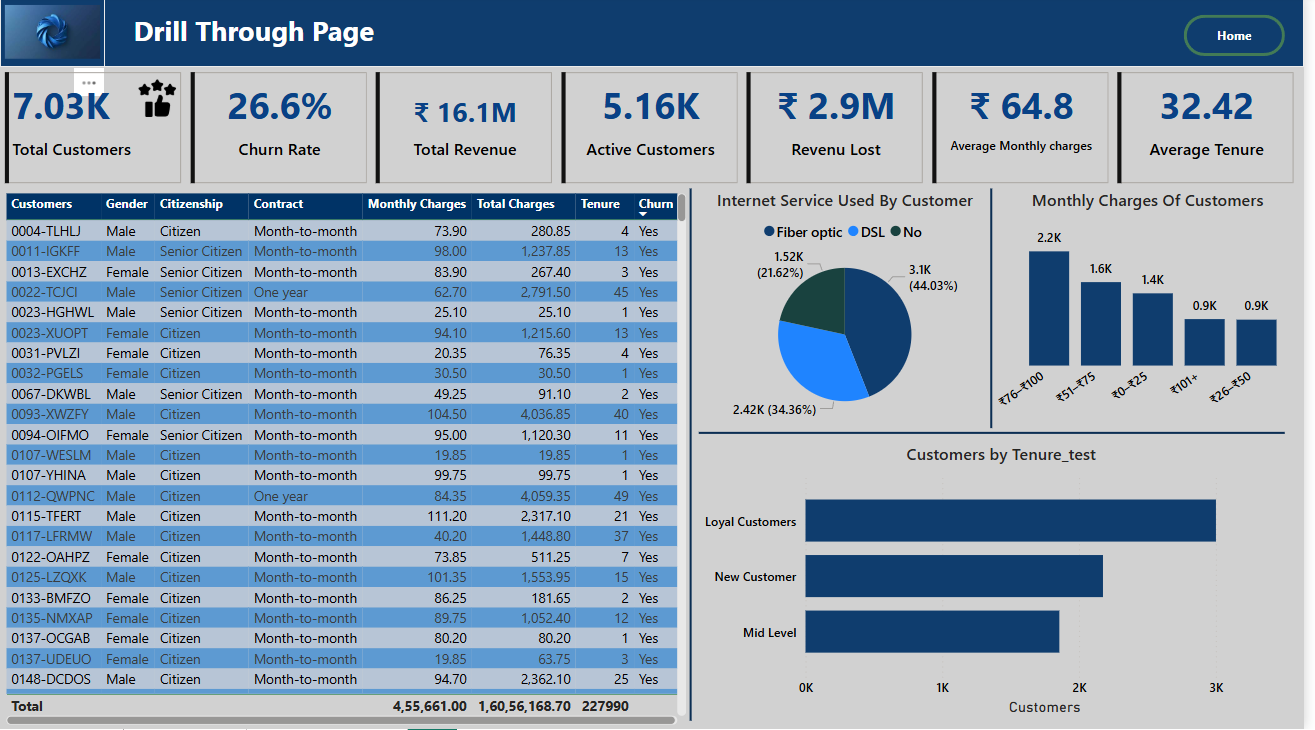

What the dashboard file says about the page in this screenshot:
{"tool":"powerbi","page":{"name":"Customer Detail","canvas":[1280,720],"ordinal":1},"visuals":[{"type":"group","id":"g1","title":"Heading","box":[0,0,1280.3,70],"z":0},{"type":"shape","box":[0,0,1280.3,70],"z":0,"group":"g1"},{"type":"image","box":[0,0,103.1,69.9],"z":1000,"group":"g1"},{"type":"cardVisual","fields":{"Data":["Measures (2).Total Customers","Measures (2).Churn Rate","Measures (2).Total Revenue","Measures (2).Active Customers","Measures (2).Revenu Lost","Measures (2).Average Monthly charges","Measures (2).Average Tenure"]},"box":[0,69.9,1279.8,119],"z":1000},{"type":"textbox","box":[103.1,11,292,50.3],"z":2000,"group":"g1"},{"type":"tableEx","fields":{"Values":["WA_Fn-UseC_-Telco-Customer-Churn.customerID","WA_Fn-UseC_-Telco-Customer-Churn.Gender","WA_Fn-UseC_-Telco-Customer-Churn.Citizenship","WA_Fn-UseC_-Telco-Customer-Churn.Contract","Sum(WA_Fn-UseC_-Telco-Customer-Churn.MonthlyCharges)","Sum(WA_Fn-UseC_-Telco-Customer-Churn.TotalCharges)","Sum(WA_Fn-UseC_-Telco-Customer-Churn.tenure)","WA_Fn-UseC_-Telco-Customer-Churn.Churn"]},"box":[0,189,678.5,531.3],"z":2000},{"type":"pieChart","title":"Internet Service Used By Customer","fields":{"Category":["WA_Fn-UseC_-Telco-Customer-Churn.InternetService"],"Y":["CountNonNull(WA_Fn-UseC_-Telco-Customer-Churn.customerID)"]},"box":[685.9,189,287.1,235.6],"z":3000},{"type":"barChart","fields":{"Category":["WA_Fn-UseC_-Telco-Customer-Churn.Tenure_test"],"Y":["Measures (2).Customers"]},"box":[685.9,438,593.9,273.6],"z":4000},{"type":"clusteredColumnChart","title":"Monthly Charges Of Customers","fields":{"Category":["WA_Fn-UseC_-Telco-Customer-Churn.MonthlyCharge_Range"],"Y":["Measures (2).Customers"]},"box":[973,189,307,236],"z":5000},{"type":"actionButton","box":[1162,18.4,99.4,40.5],"z":6000},{"type":"shape","box":[685.9,402.5,575.5,52.8],"z":7000},{"type":"shape","box":[950.9,189,44.2,235.6],"z":8000},{"type":"shape","box":[656.4,189,42.9,522.7],"z":9000}]}

Visuals, with their boxes in screenshot pixels (x1, y1, x2, y2), scaled from the page's 1280x720 canvas onto the 1315x730 screenshot:
"Heading" group: box(0, 0, 1314, 71)
shape: box(0, 0, 1314, 71)
image: box(0, 0, 106, 71)
cardVisual - Measures (2).Total Customers x Measures (2).Churn Rate: box(0, 71, 1314, 192)
textbox: box(106, 11, 406, 62)
tableEx - WA_Fn-UseC_-Telco-Customer-Churn.customerID x WA_Fn-UseC_-Telco-Customer-Churn.Gender: box(0, 192, 697, 729)
"Internet Service Used By Customer" pieChart: box(705, 192, 1000, 430)
barChart - WA_Fn-UseC_-Telco-Customer-Churn.Tenure_test x Measures (2).Customers: box(705, 444, 1314, 721)
"Monthly Charges Of Customers" clusteredColumnChart: box(1000, 192, 1314, 431)
actionButton: box(1194, 19, 1296, 60)
shape: box(705, 408, 1296, 462)
shape: box(977, 192, 1022, 430)
shape: box(674, 192, 718, 722)
